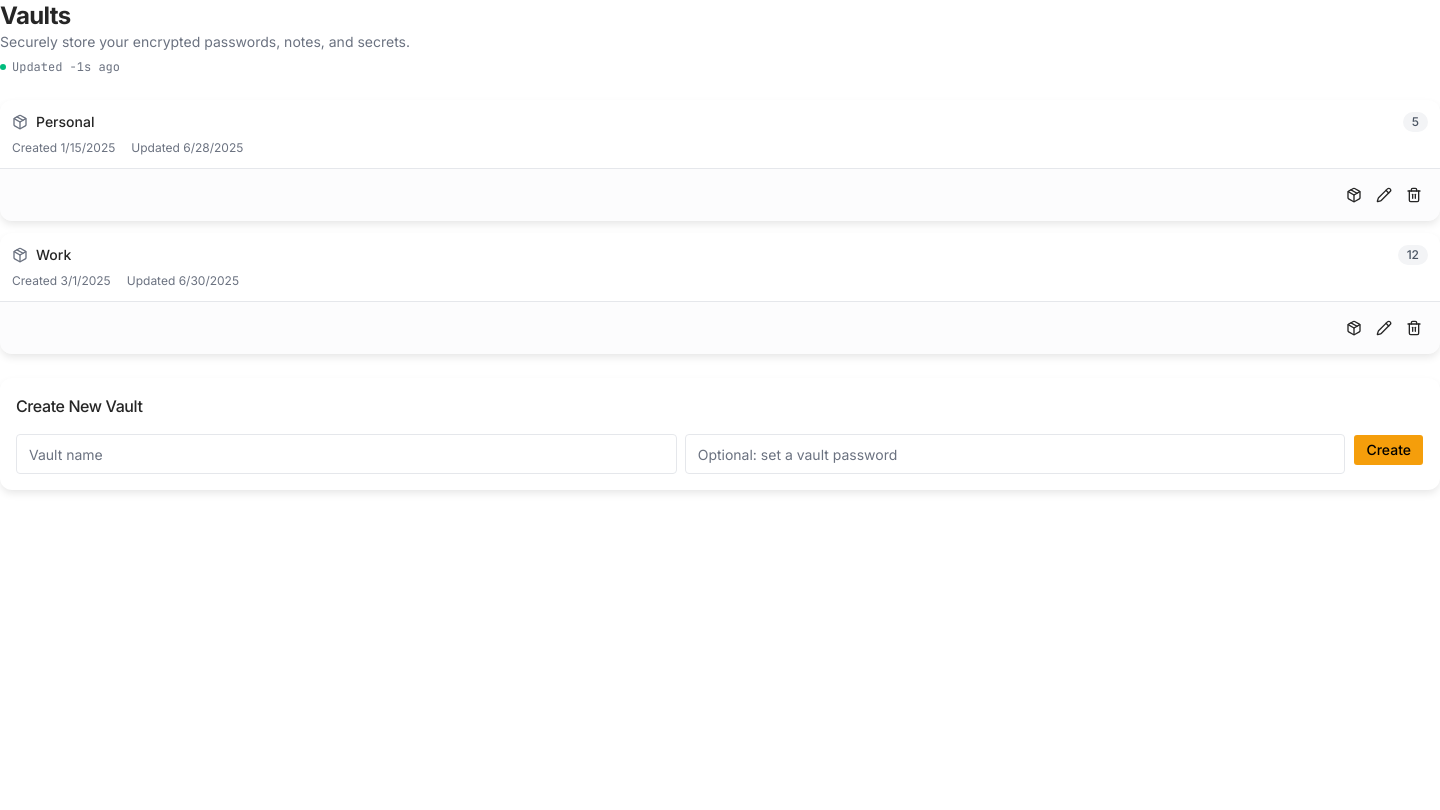
Test case: VaultsPage › shows delete confirmation dialog with correct counts
Expected: the text "Work" is shown, [36, 245, 71, 265]
Click the button named "Delete vault" below "12" at [1414, 328], box [1400, 314, 1428, 342]
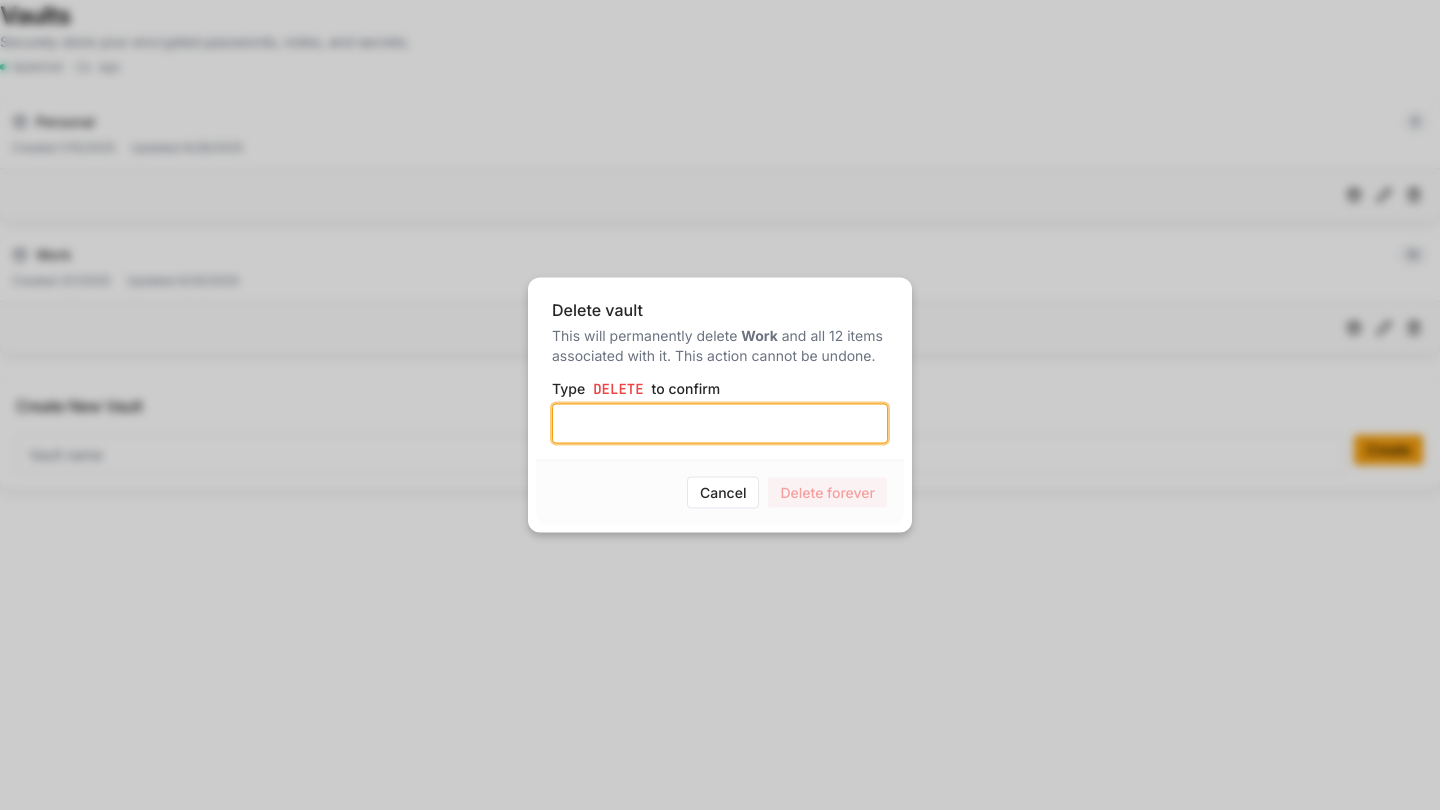
Now the text "12 item" is shown, box [552, 326, 888, 366]
